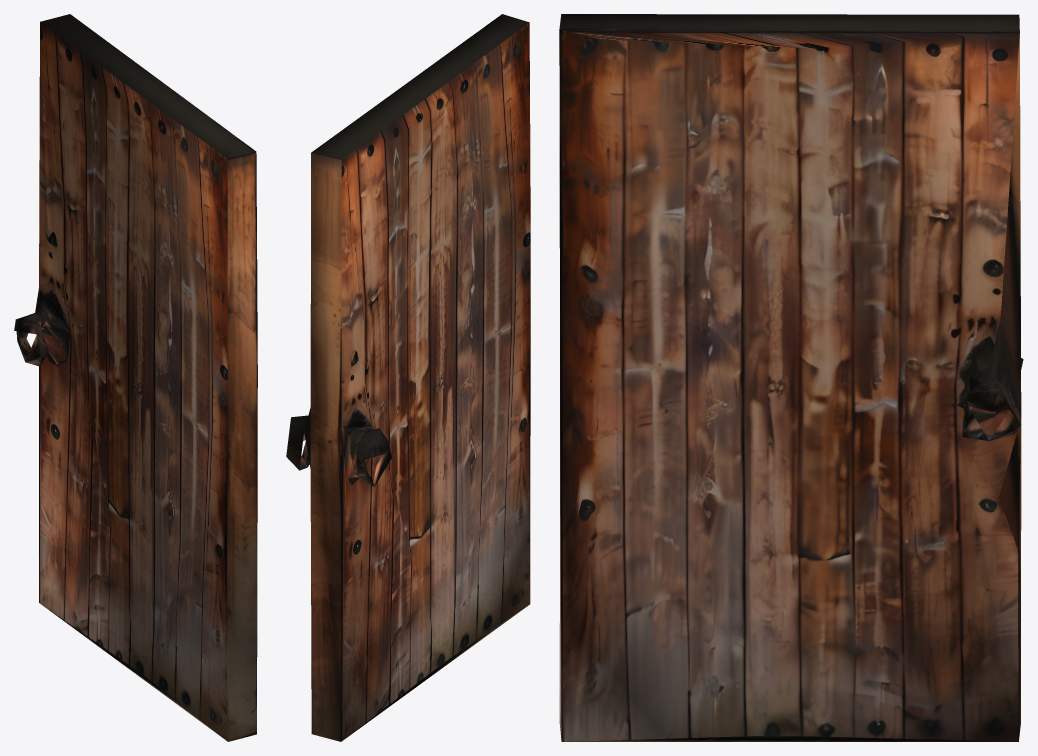
File: doorOnly.fbx
The picture shows the model from 3 angles, left to right: view 1: azimuth 30°, elevation 25°; view 2: azimuth 150°, elevation 25°; view 3: azimuth 270°, elevation 25°; orthographic projection. The views are drawn at different scales.
Visible parts, largest first — view 1: tripo_node_9abe4b5c; view 2: tripo_node_9abe4b5c; view 3: tripo_node_9abe4b5c.
Part boxes in pixels (bbox=[...]): tripo_node_9abe4b5c: bbox=[14, 14, 257, 741]; tripo_node_9abe4b5c: bbox=[286, 14, 530, 741]; tripo_node_9abe4b5c: bbox=[559, 14, 1023, 741].
Bounding box in the file's own units: 16.93 × 94.72 × 55.98.
1 material, 1 textured.
